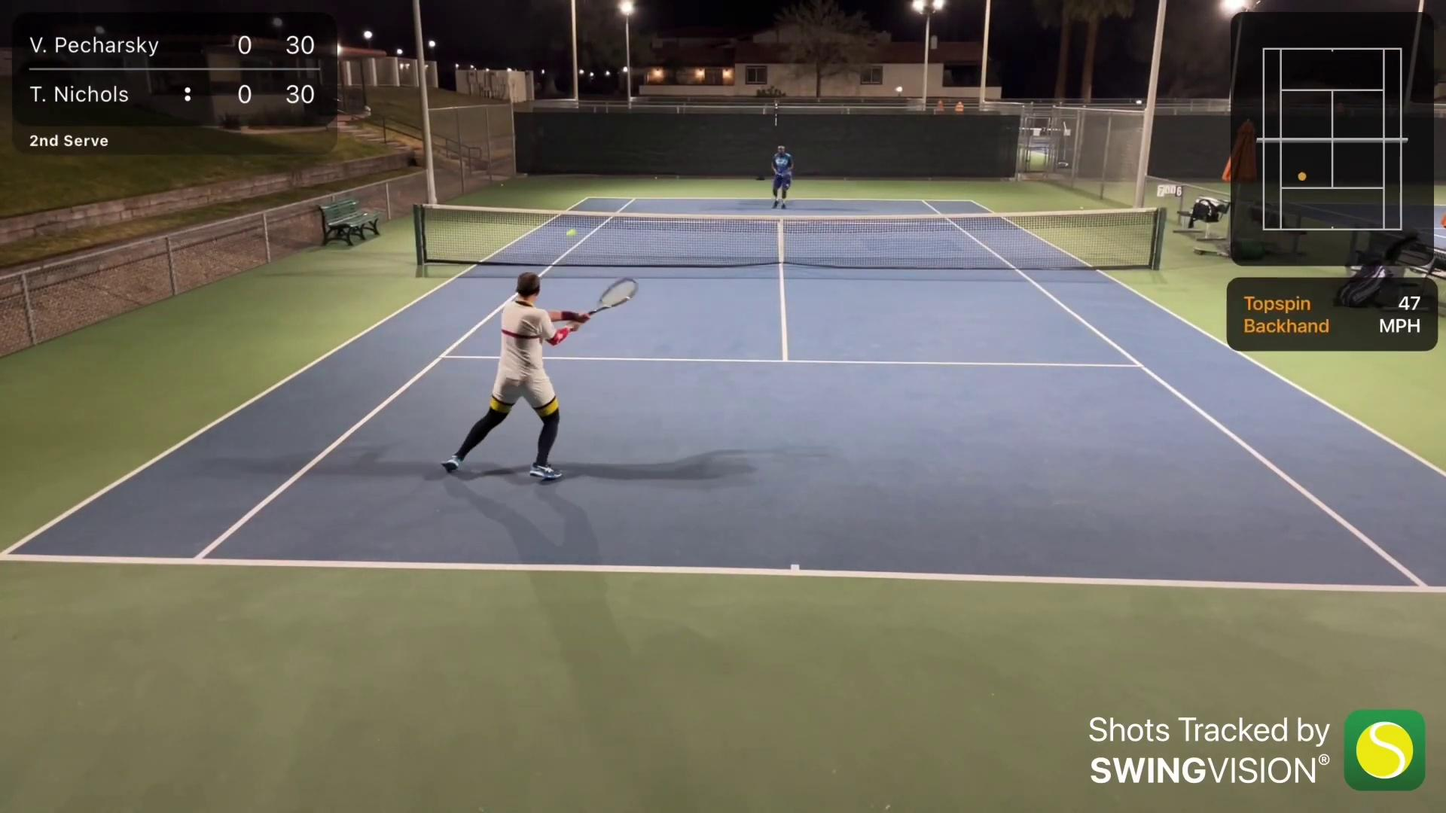ball: (564, 228, 577, 237), (497, 182, 506, 188), (654, 177, 658, 180)
